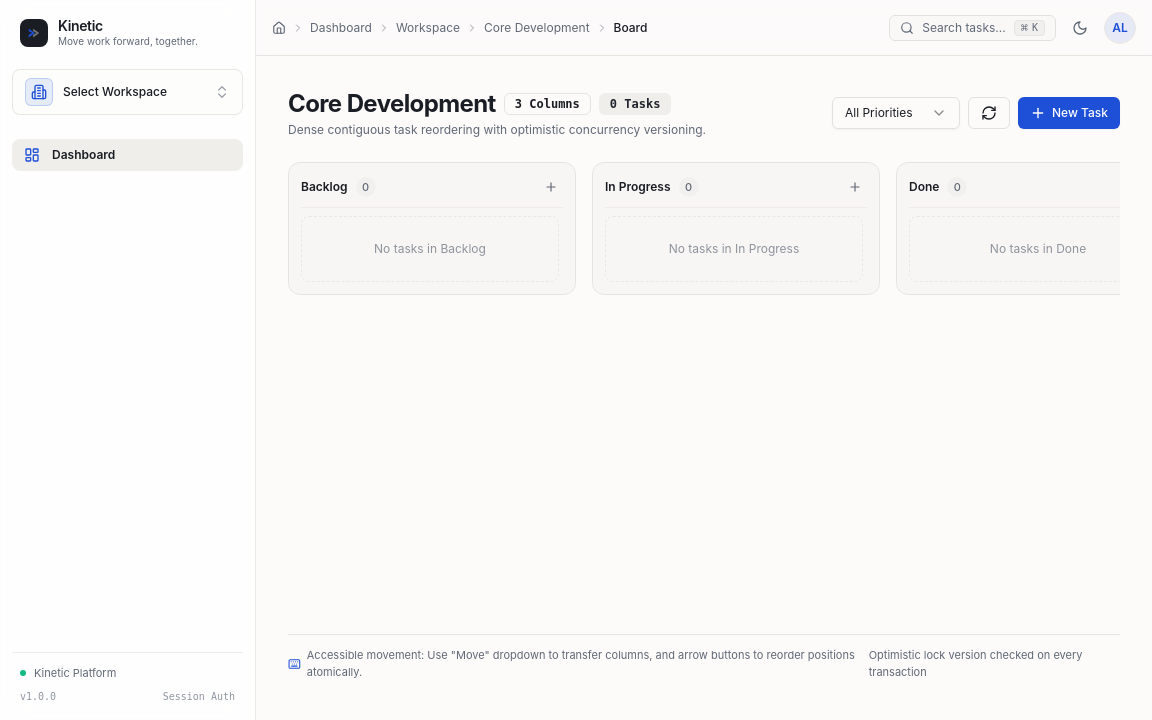
Test case: KanbanBoardPage Flow › creates a new task through the modal dialog
Check: the text "Backlog" is shown, box left=301, top=179, right=348, bottom=195
Click the button "New Task": {"x": 1069, "y": 113} left=1018, top=97, right=1120, bottom=129
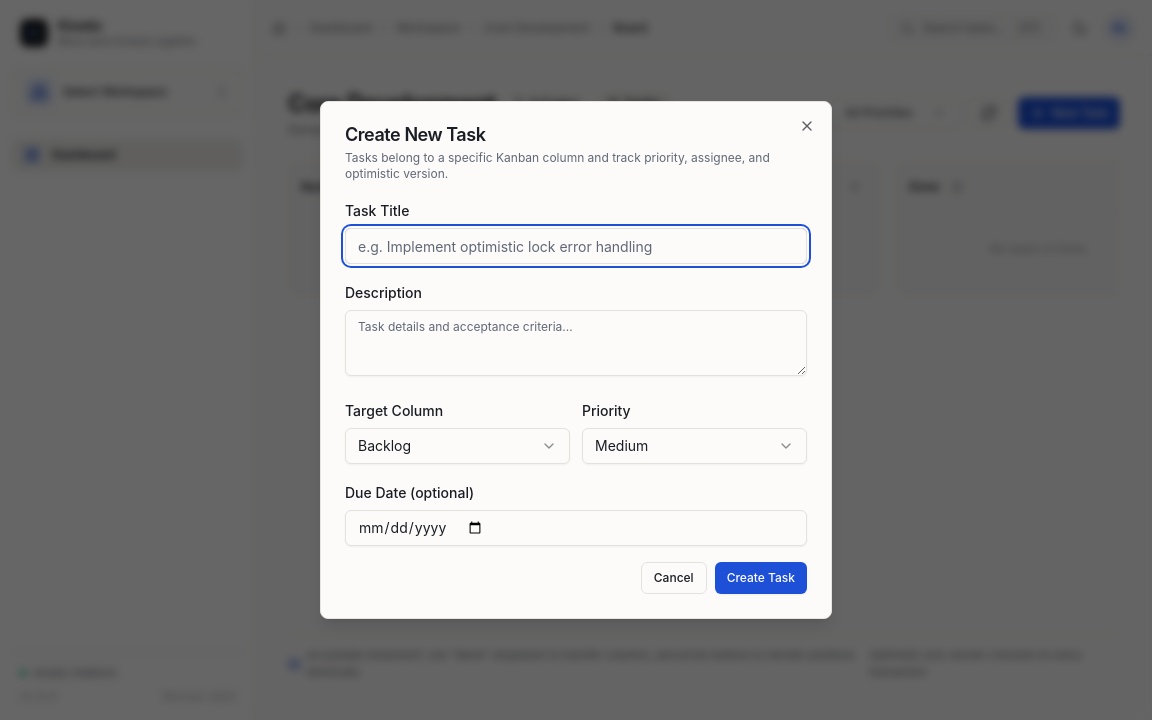
In the field labelled "Task Title": {"x": 576, "y": 246} left=345, top=228, right=807, bottom=264, type "New Task Title"
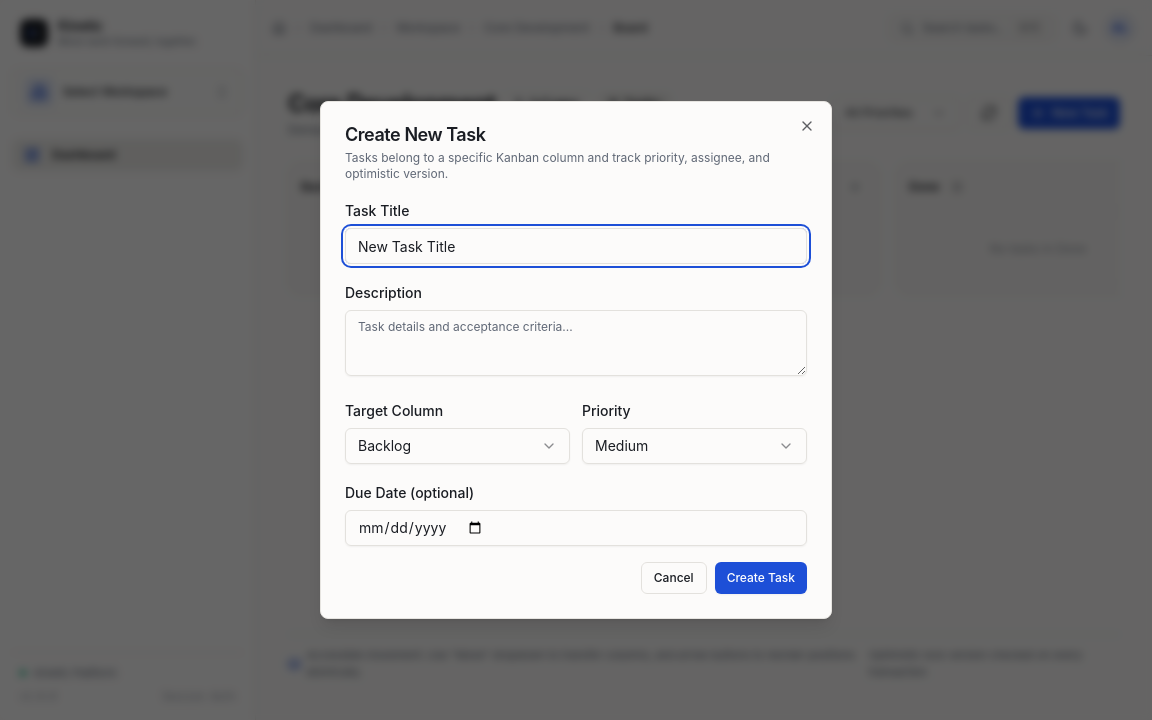
Click the button "Create Task": {"x": 761, "y": 578} left=715, top=562, right=807, bottom=594
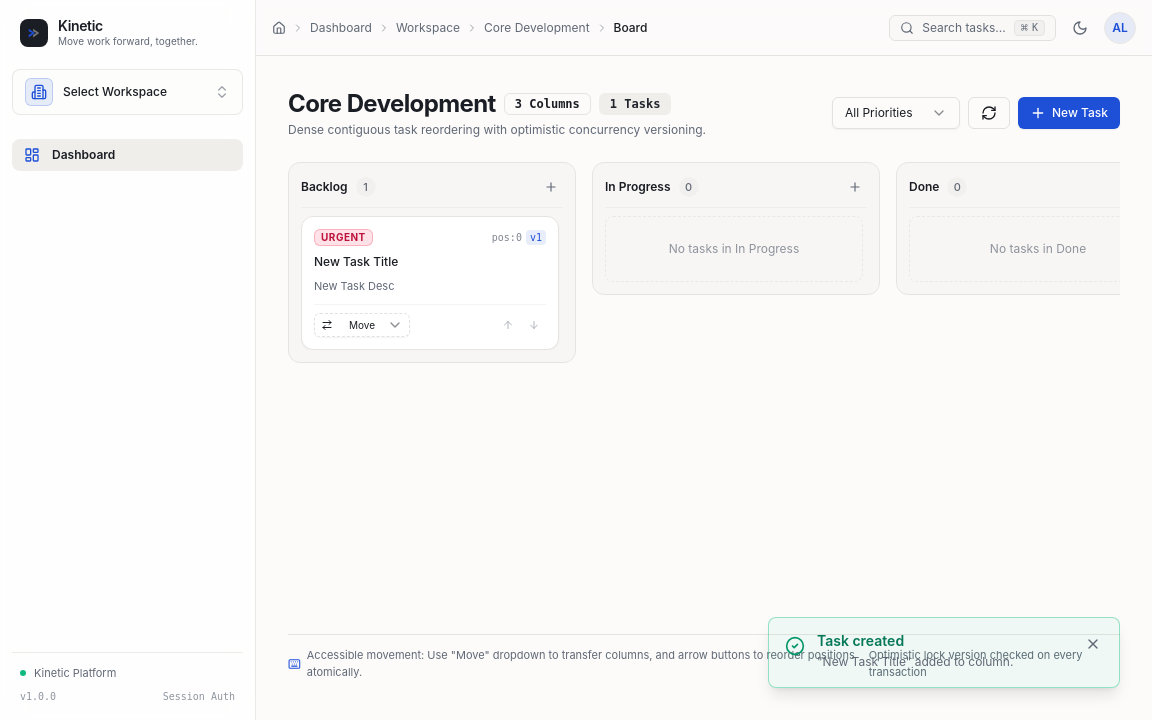
Check: the link "New Task Title" is shown, box left=314, top=254, right=398, bottom=269
